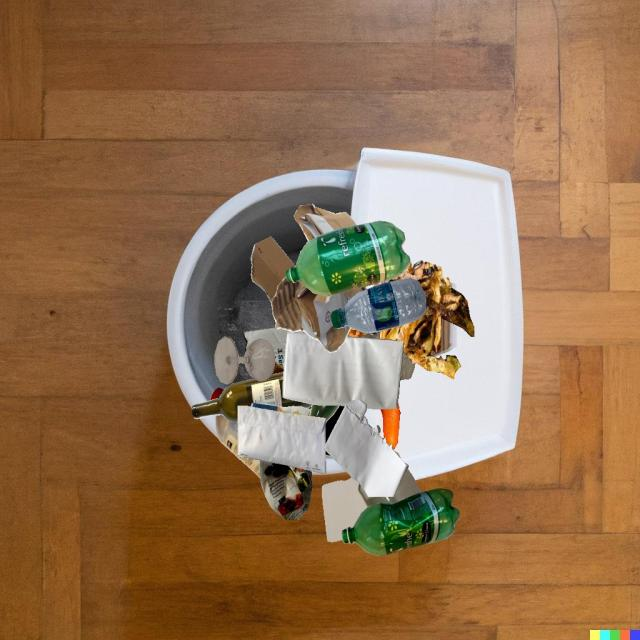biowaste: (372, 260, 474, 379), (380, 402, 400, 450)
cardboard: (271, 277, 367, 353), (251, 236, 296, 303), (244, 328, 306, 375), (294, 204, 357, 242), (311, 409, 333, 450), (328, 406, 345, 439)
glass: (191, 372, 312, 422), (214, 336, 275, 384), (358, 469, 422, 507), (362, 445, 401, 488), (309, 404, 339, 423), (400, 351, 416, 380), (359, 331, 380, 339)
paper: (282, 332, 404, 409), (324, 400, 409, 497), (238, 406, 326, 474), (322, 478, 367, 542), (259, 460, 298, 520), (288, 413, 325, 473)
plastic: (286, 221, 411, 297), (342, 488, 460, 556), (331, 278, 426, 333), (216, 415, 260, 479)
